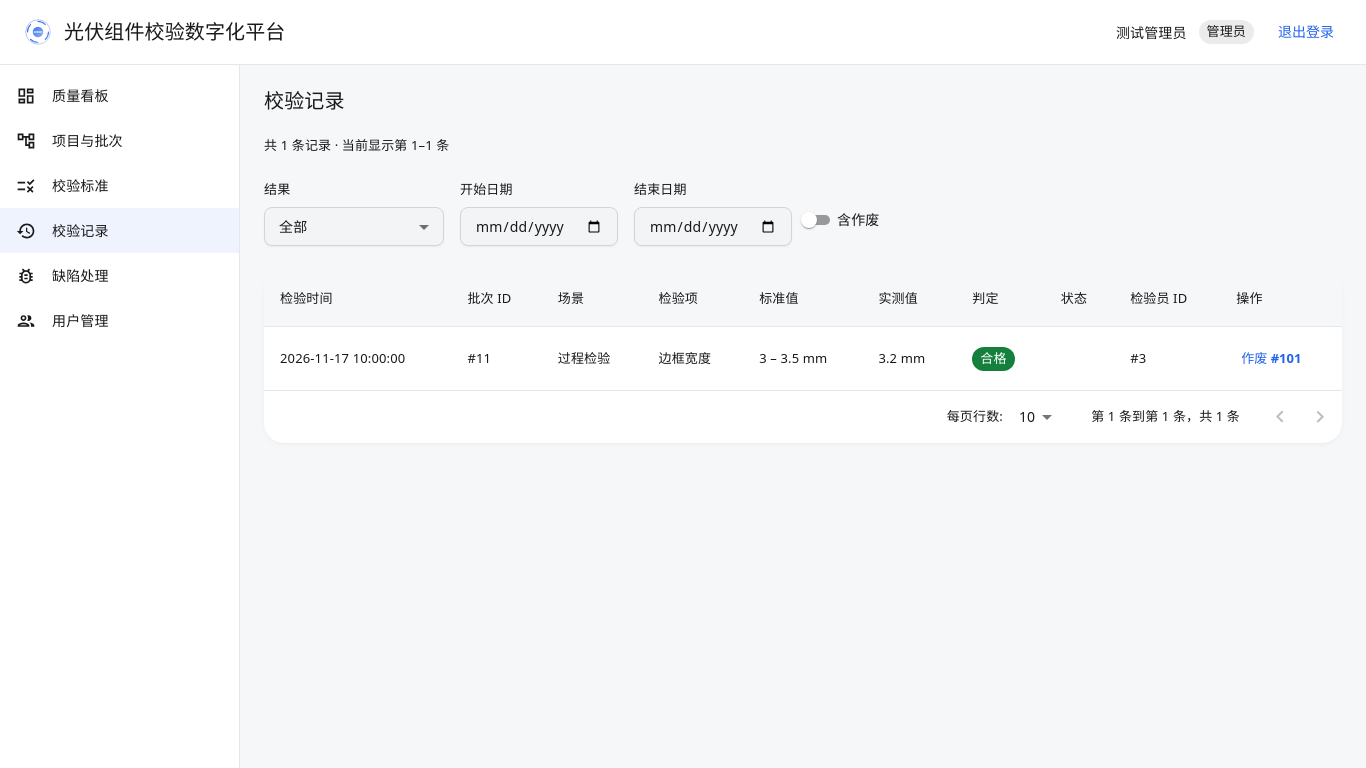
Test case: 管理员看到作废按钮，作废必须填原因
Later steps or results of the test are not shown.
Click the button "作废 #101".
click(1271, 359)  # box [1236,344,1306,374]
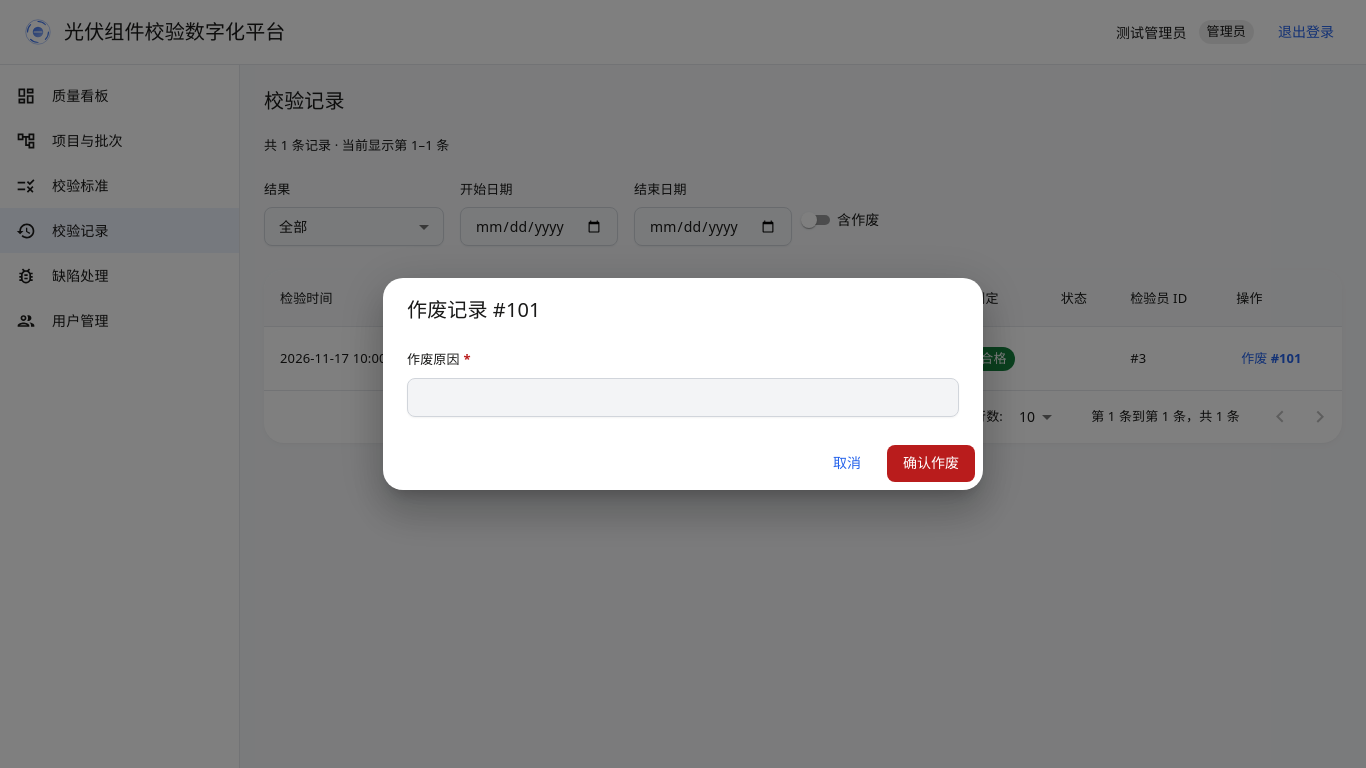
Check: the heading "作废记录 #101" is shown, box [407,296,541,323]
Click the button "确认作废".
click(931, 463)  # box [887,445,975,482]
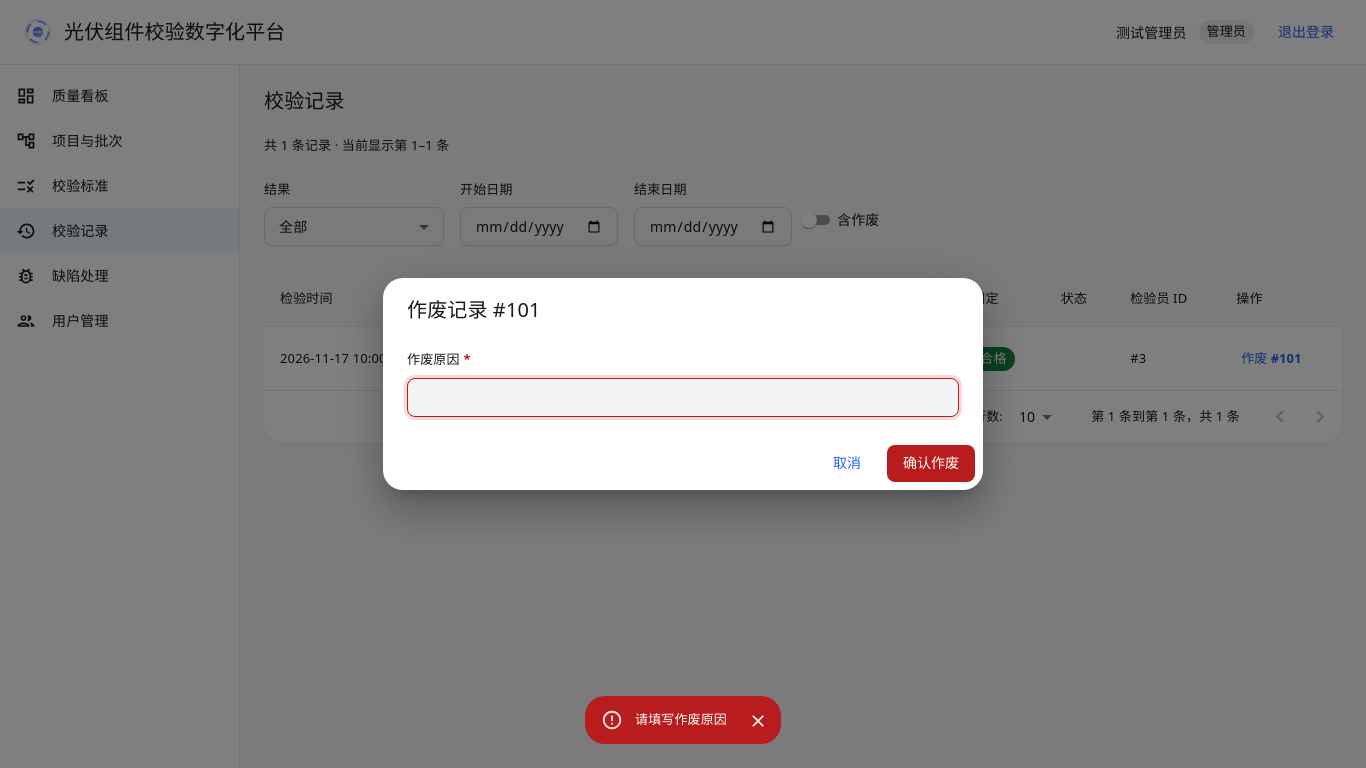
Check: the text "请填写作废原因" is shown, box [635,710,727,728]
